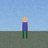person: (20, 17, 30, 38)
